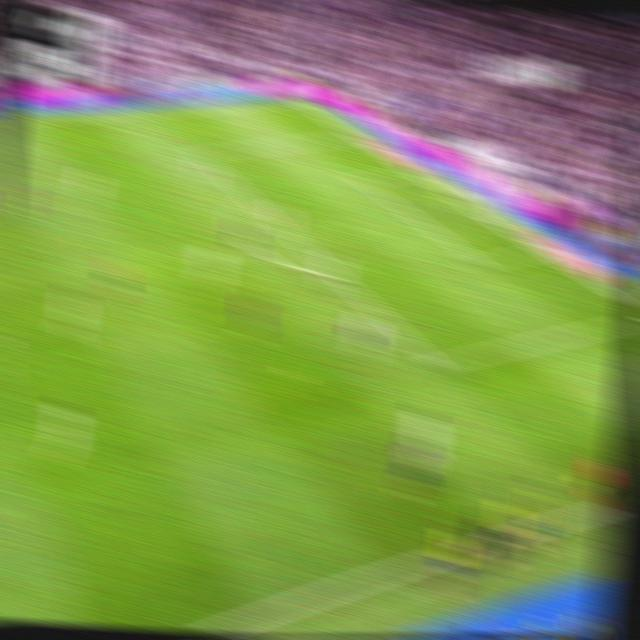bigarea_bottom_inner: (423, 349, 451, 378)
bigarea_top_inner: (188, 143, 211, 163)
bigarea_top_outter: (340, 126, 365, 143)
corner: (282, 92, 306, 106)
smallarea_bottom_inner: (468, 250, 493, 274)
smallarea_top_inner: (350, 171, 372, 188)
top_arc_area_intersection: (242, 192, 266, 211)
